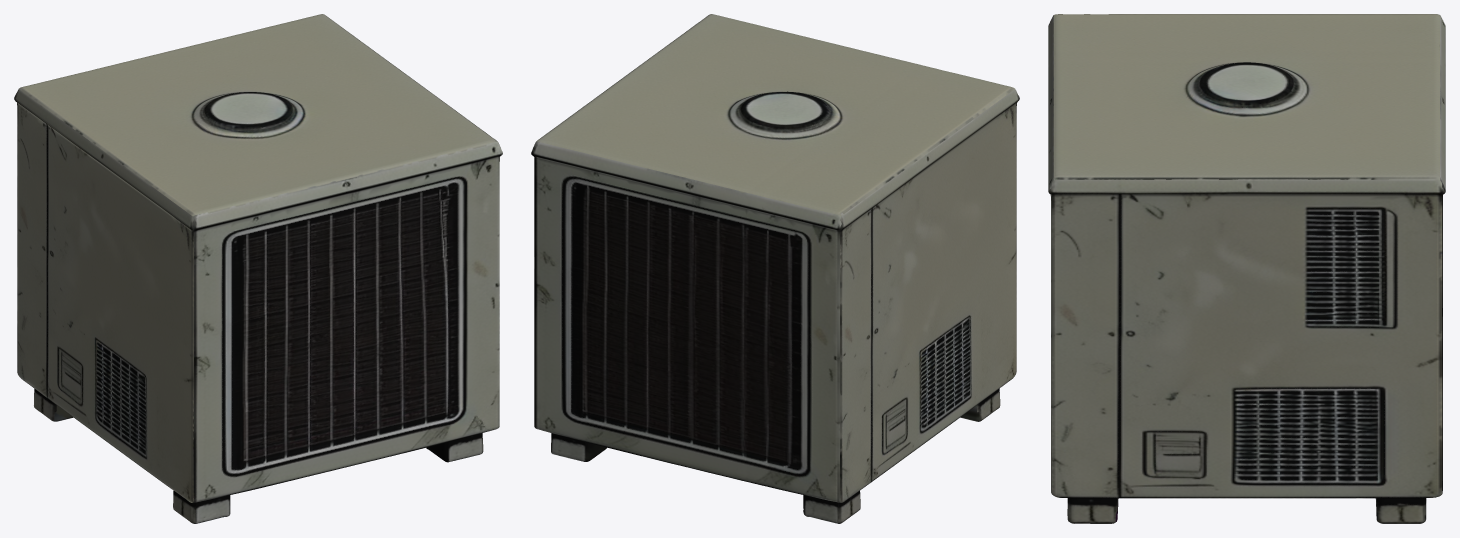
Rendered from roof-air-unit.glb.
The picture shows the model from 3 angles, left to right: view 1: azimuth 30°, elevation 25°; view 2: azimuth 150°, elevation 25°; view 3: azimuth 270°, elevation 25°; orthographic projection. The views are drawn at different scales.
Parts seen in each view (by area): view 1: tmp1q432z8i.ply; view 2: tmp1q432z8i.ply; view 3: tmp1q432z8i.ply.
Part boxes in pixels (x1,y1,x2,y2): tmp1q432z8i.ply: (14,14,502,523); tmp1q432z8i.ply: (531,14,1019,523); tmp1q432z8i.ply: (1048,14,1445,523).
Bounding box in the file's own units: 1 × 1 × 1.
1 material, 1 textured.
